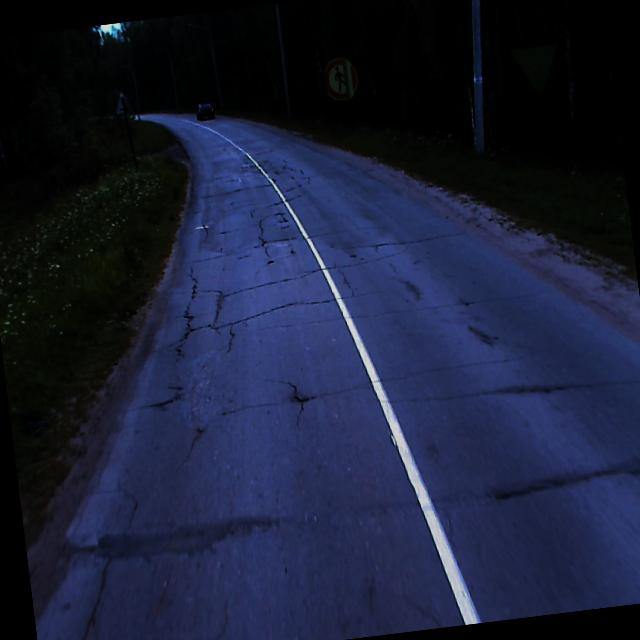road: (35, 112, 640, 640)
